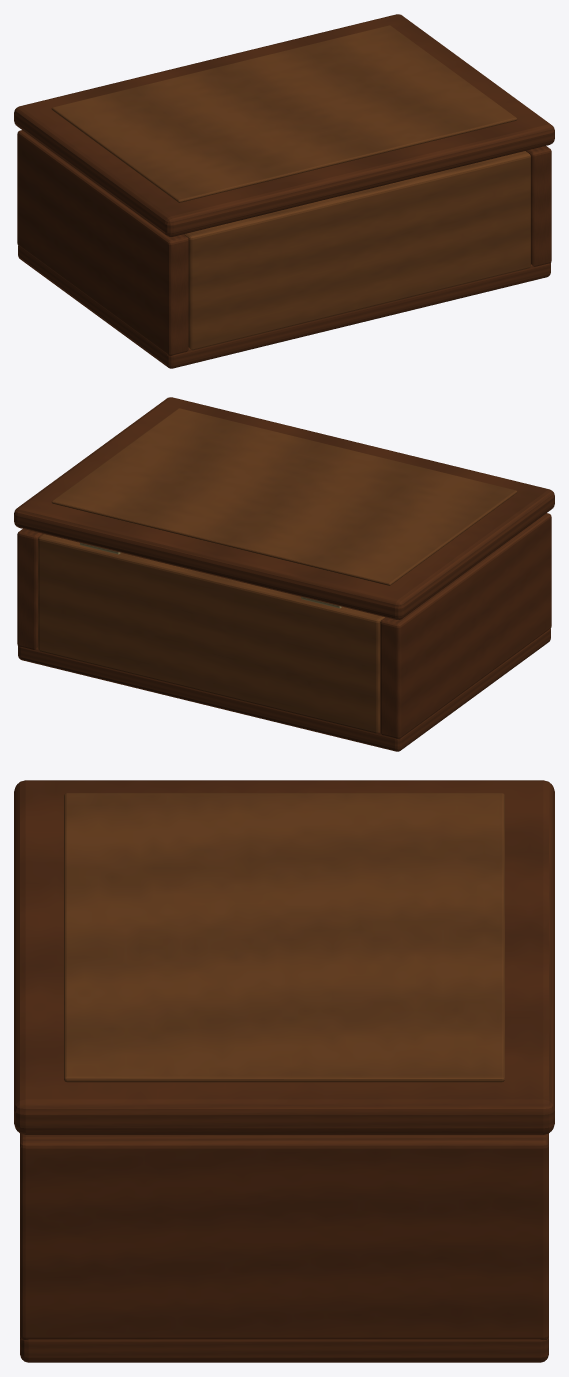
Rendered from keepsake-box.glb.
The picture shows the model from 3 angles, top to bottom: view 1: azimuth 30°, elevation 25°; view 2: azimuth 150°, elevation 25°; view 3: azimuth 270°, elevation 25°; orthographic projection. The views are drawn at different scales.
Parts seen in each view (by area): view 1: LidInset, BoxEnd, BoxLid, BoxSide, BoxFloor, BoxSide.001; view 2: LidInset, BoxEnd.001, BoxLid, BoxSide, BoxFloor, BoxSide.001; view 3: LidInset, BoxSide.001, BoxLid, BoxFloor.
Part boxes in pixels (bbox=[...]): LidInset: bbox=[51, 25, 517, 202]; BoxEnd: bbox=[184, 151, 530, 350]; BoxLid: bbox=[14, 14, 554, 236]; BoxSide: bbox=[17, 130, 188, 355]; BoxFloor: bbox=[18, 245, 550, 368]; BoxSide.001: bbox=[526, 146, 551, 266]; LidInset: bbox=[51, 408, 517, 585]; BoxEnd.001: bbox=[38, 534, 384, 733]; BoxLid: bbox=[14, 397, 554, 619]; BoxSide: bbox=[380, 513, 551, 738]; BoxFloor: bbox=[18, 628, 550, 751]; BoxSide.001: bbox=[17, 529, 42, 649]; LidInset: bbox=[64, 793, 504, 1082]; BoxSide.001: bbox=[20, 1133, 548, 1339]; BoxLid: bbox=[14, 780, 554, 1134]; BoxFloor: bbox=[20, 1336, 548, 1362].
Size of the model in its own units: 0.264 by 0.101 by 0.184.
Materials: 3 (2 with a texture image).
